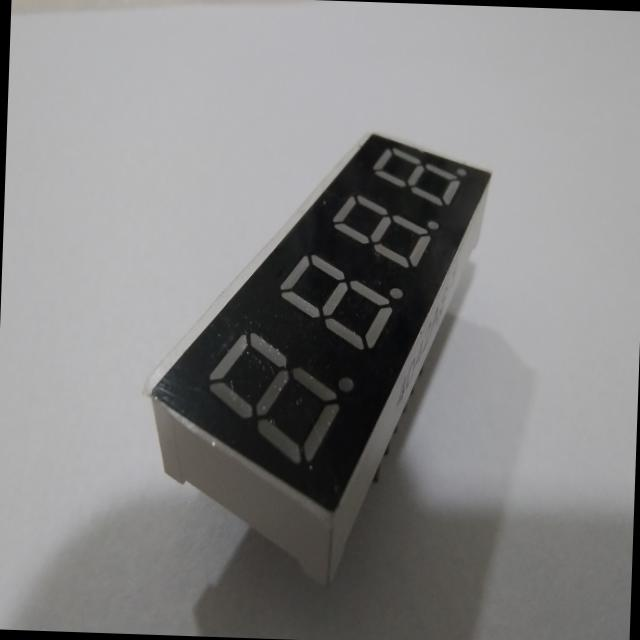7_segments_4_digits: (133, 119, 500, 597)
